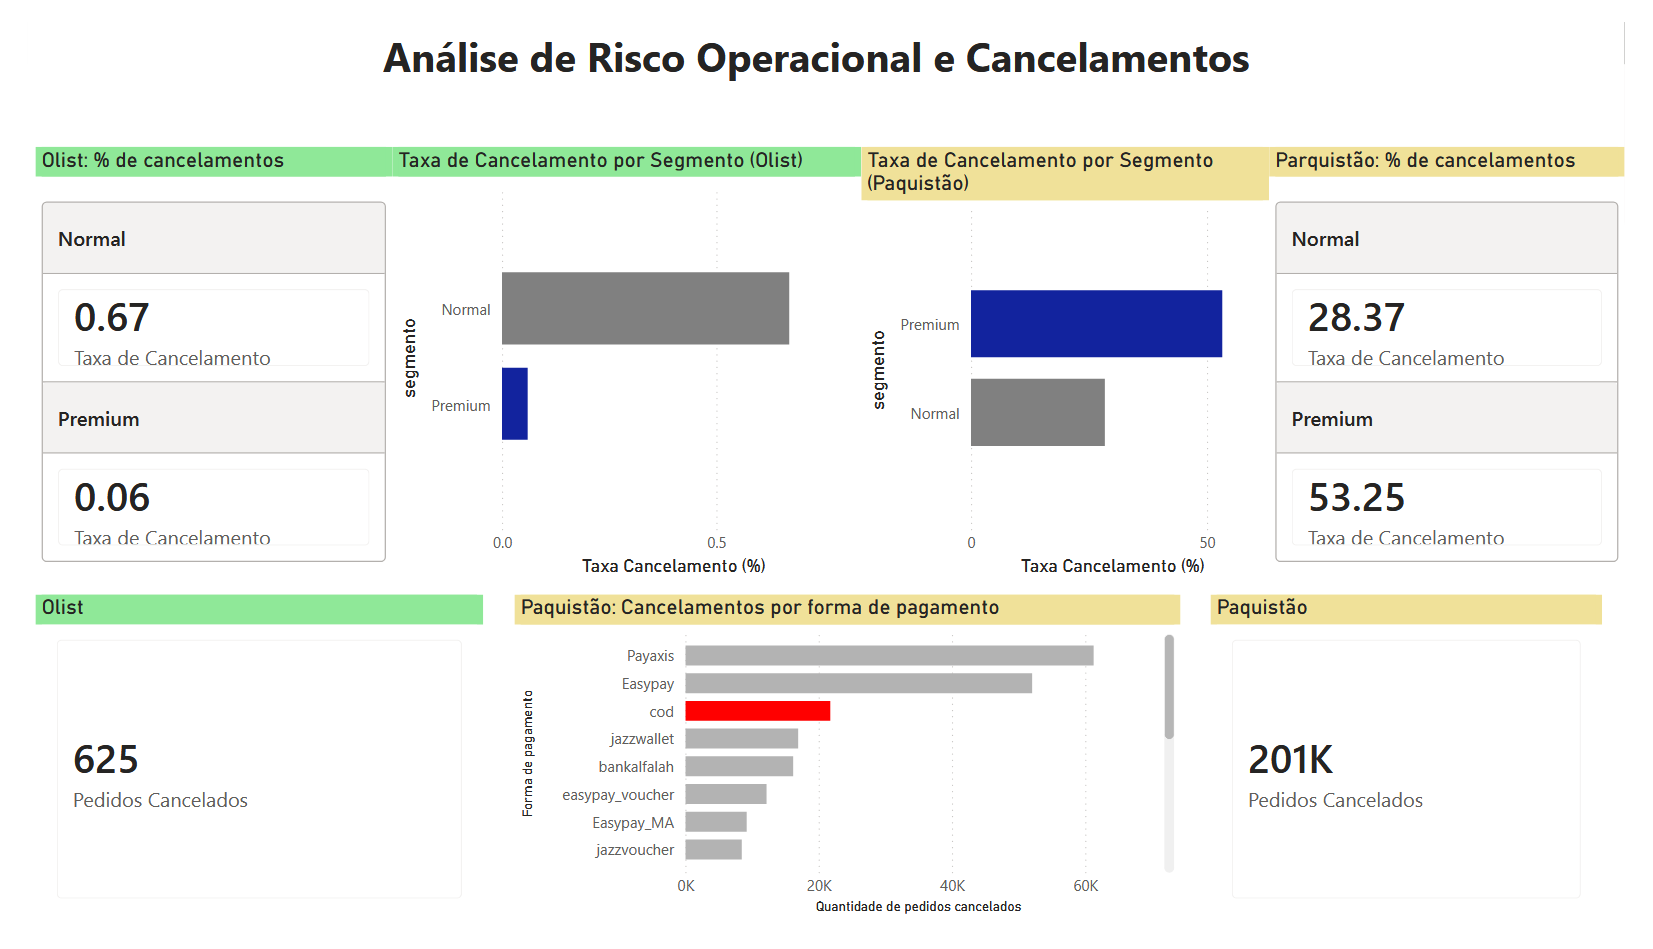

The page's visual inventory and layout, read from the dashboard file:
{"tool":"powerbi","page":{"name":"Cancelamentos","canvas":[1280,720],"ordinal":3},"visuals":[{"type":"cardVisual","title":"Olist: % de cancelamentos","fields":{"Rows":["pb_olist_taxa_cancelamento (2).segmento"],"Data":["Sum(pb_olist_taxa_cancelamento (2).percentual_pedidos_cancelados)"]},"box":[6,100.1,285.5,358.8],"z":0},{"type":"textbox","box":[245.8,0,772,74.2],"z":1000},{"type":"cardVisual","title":"Parquistão: % de cancelamentos","fields":{"Rows":["paquistao_taxa_cancelamentos_pedidos.segmento"],"Data":["Sum(paquistao_taxa_cancelamentos_pedidos.taxa_cancelamento_%)"]},"box":[994.5,100.1,285,358],"z":2000},{"type":"clusteredBarChart","title":"Paquistão: Cancelamentos por forma de pagamento","fields":{"Category":["total_pedidos_por_pagamento.payment_method"],"Y":["Sum(total_pedidos_por_pagamento.cancelados)"]},"box":[389.9,458.9,533.9,261.3],"z":3000},{"type":"clusteredBarChart","title":"Taxa de Cancelamento por Segmento (Paquistão)","fields":{"Category":["paquistao_taxa_cancelamentos_pedidos.segmento"],"Y":["Sum(paquistao_taxa_cancelamentos_pedidos.taxa_cancelamento_%)"]},"box":[668.5,100.1,326,349.3],"z":4000},{"type":"clusteredBarChart","title":"Taxa de Cancelamento por Segmento (Olist)","fields":{"Category":["pb_olist_taxa_cancelamento (2).segmento"],"Y":["Sum(pb_olist_taxa_cancelamento (2).percentual_pedidos_cancelados)"]},"box":[291.5,100.1,376.9,349.3],"z":5000},{"type":"cardVisual","title":"Paquistão","fields":{"Data":["Sum(total_pedidos_por_pagamento.cancelados)"]},"box":[947.9,458.9,314,261.3],"z":6000},{"type":"cardVisual","title":"Olist","fields":{"Data":["Sum(pb_olist_taxa_cancelamento (2).qtd_pedidos_cancelados)"]},"box":[6,458.9,358.8,261.3],"z":7000}]}

Visuals, with their boxes in screenshot pixels (x1, y1, x2, y2), scaled from the page's 1280x720 canvas onto the 1653x949 screenshot:
"Olist: % de cancelamentos" cardVisual: (8, 132, 376, 605)
textbox: (317, 0, 1314, 98)
"Parquistão: % de cancelamentos" cardVisual: (1284, 132, 1652, 604)
"Paquistão: Cancelamentos por forma de pagamento" clusteredBarChart: (504, 605, 1193, 948)
"Taxa de Cancelamento por Segmento (Paquistão)" clusteredBarChart: (863, 132, 1284, 592)
"Taxa de Cancelamento por Segmento (Olist)" clusteredBarChart: (376, 132, 863, 592)
"Paquistão" cardVisual: (1224, 605, 1630, 948)
"Olist" cardVisual: (8, 605, 471, 948)
